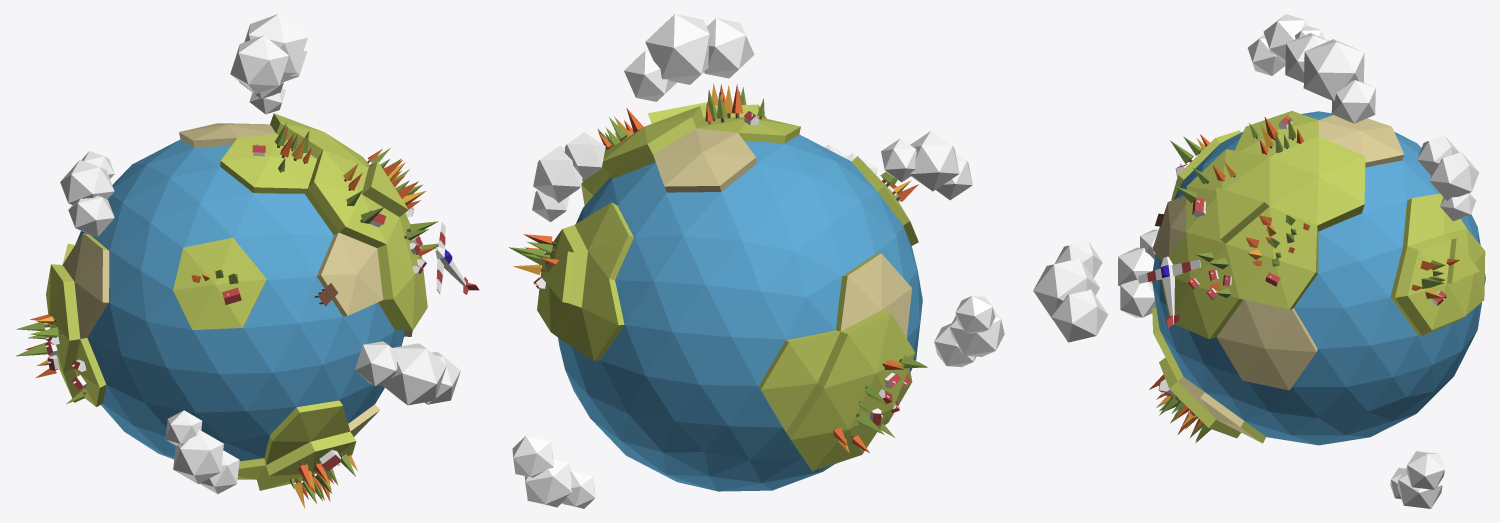
The model's file is low-poly-planet-v3.glb.
The picture shows the model from 3 angles, left to right: view 1: azimuth 30°, elevation 25°; view 2: azimuth 150°, elevation 25°; view 3: azimuth 270°, elevation 25°; orthographic projection. The views are drawn at different scales.
Visible parts, largest first — view 1: Water, Planet, Cloud.003, Cloud.001, Cloud.002, Cloud.004, Low Poly Airplane, Low Poly Cloud; view 2: Water, Planet, Cloud.001, Cloud.004, Cloud.005, Low Poly Cloud, Cloud.002; view 3: Planet, Water, Cloud.001, Cloud.003, Low Poly Cloud, Cloud.002, Cloud.005, Cloud.004, Low Poly Airplane.
Boxes of the visible parts, left/top/right/bottom form: Water: left=75, top=139, right=404, bottom=461; Planet: left=46, top=113, right=427, bottom=490; Cloud.003: left=355, top=341, right=460, bottom=405; Cloud.001: left=230, top=14, right=307, bottom=94; Cloud.002: left=165, top=410, right=239, bottom=494; Cloud.004: left=60, top=151, right=114, bottom=236; Low Poly Airplane: left=435, top=222, right=479, bottom=294; Low Poly Cloud: left=239, top=81, right=285, bottom=114; Water: left=558, top=134, right=922, bottom=491; Planet: left=537, top=102, right=918, bottom=471; Cloud.001: left=624, top=14, right=754, bottom=101; Cloud.004: left=881, top=131, right=972, bottom=200; Cloud.005: left=512, top=436, right=595, bottom=508; Low Poly Cloud: left=532, top=132, right=605, bottom=221; Cloud.002: left=934, top=296, right=1004, bottom=367; Planet: left=1152, top=111, right=1485, bottom=443; Water: left=1152, top=111, right=1485, bottom=445; Cloud.001: left=1285, top=33, right=1375, bottom=123; Cloud.003: left=1033, top=241, right=1108, bottom=342; Low Poly Cloud: left=1417, top=135, right=1479, bottom=221; Cloud.002: left=1118, top=229, right=1158, bottom=317; Cloud.005: left=1390, top=451, right=1444, bottom=508; Cloud.004: left=1247, top=14, right=1324, bottom=75; Low Poly Airplane: left=1138, top=256, right=1200, bottom=328.
Size of the model in its own units: 2.47 by 2.95 by 2.8.
